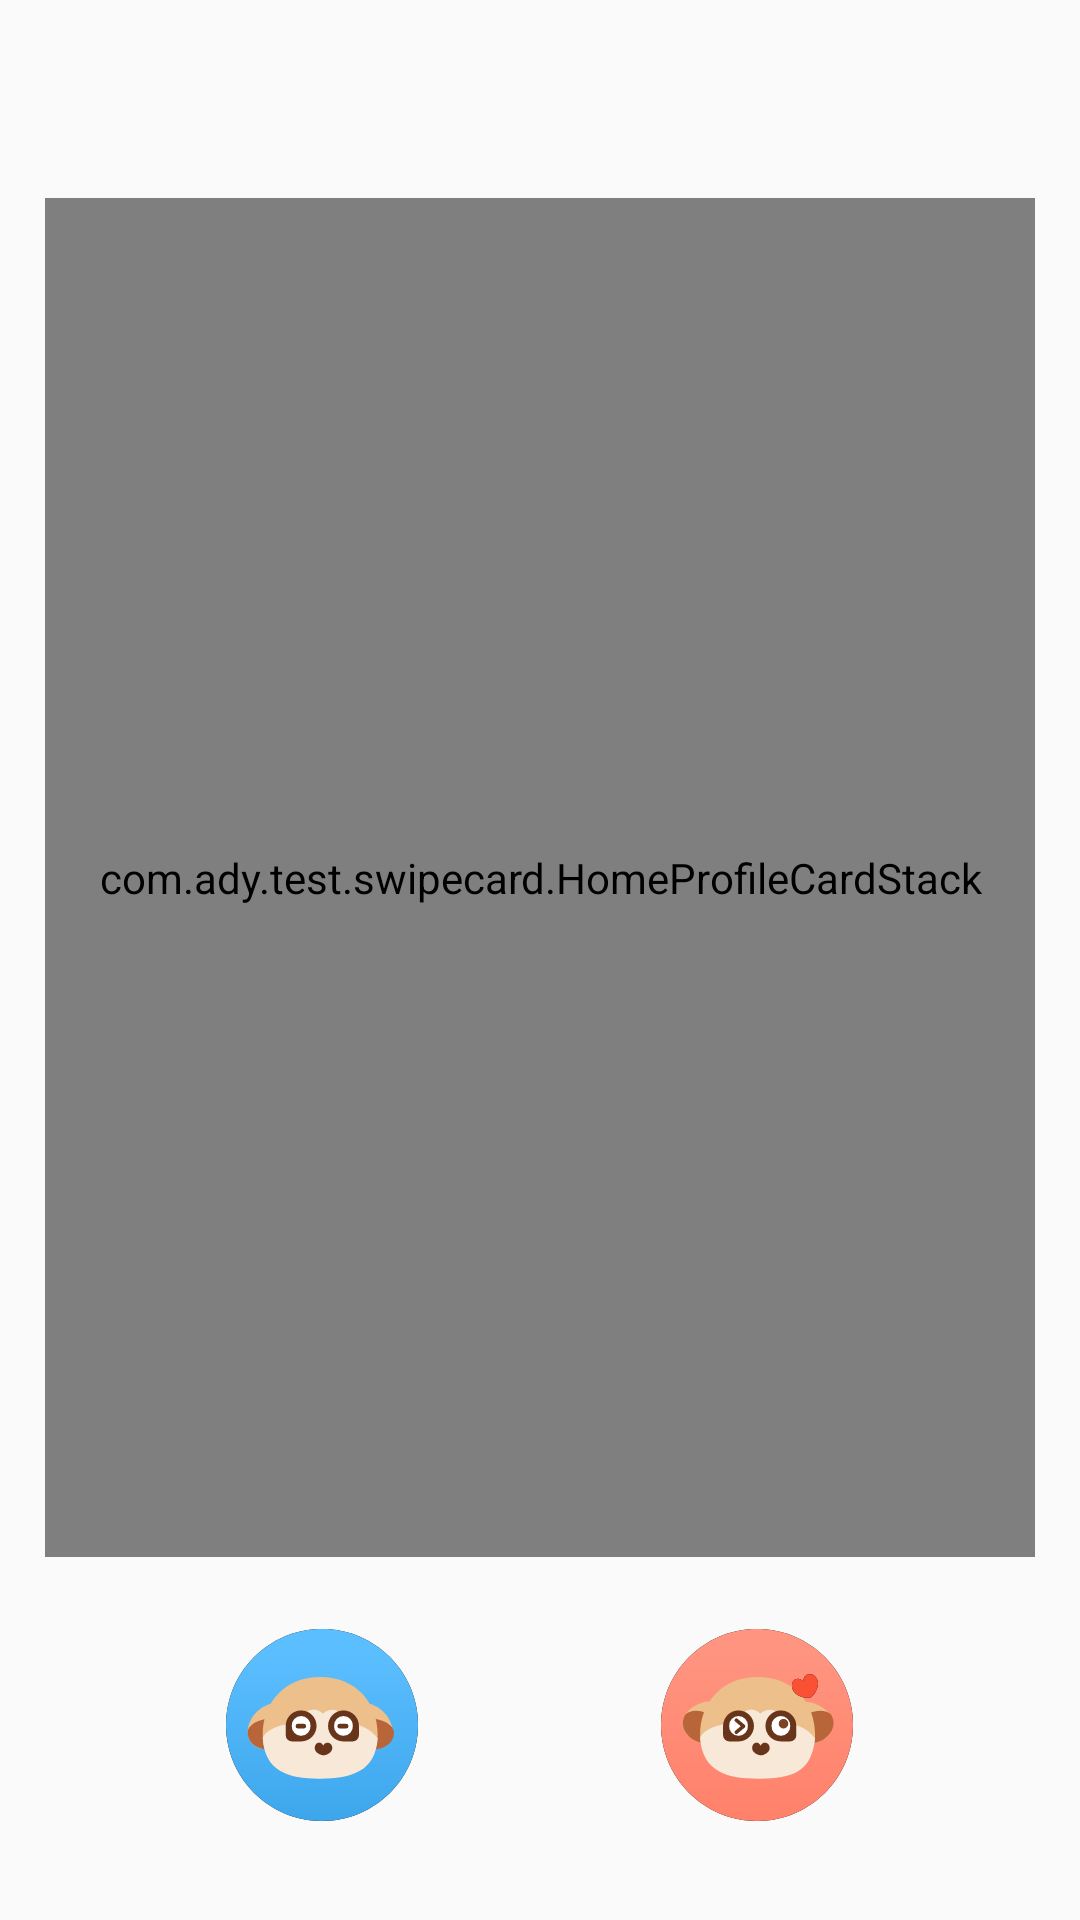

Icon click points for this 1080w x 1920h phone screenshot, format (x=x, y=y):
choose like: (x=757, y=1725)
choose pass: (x=322, y=1725)
